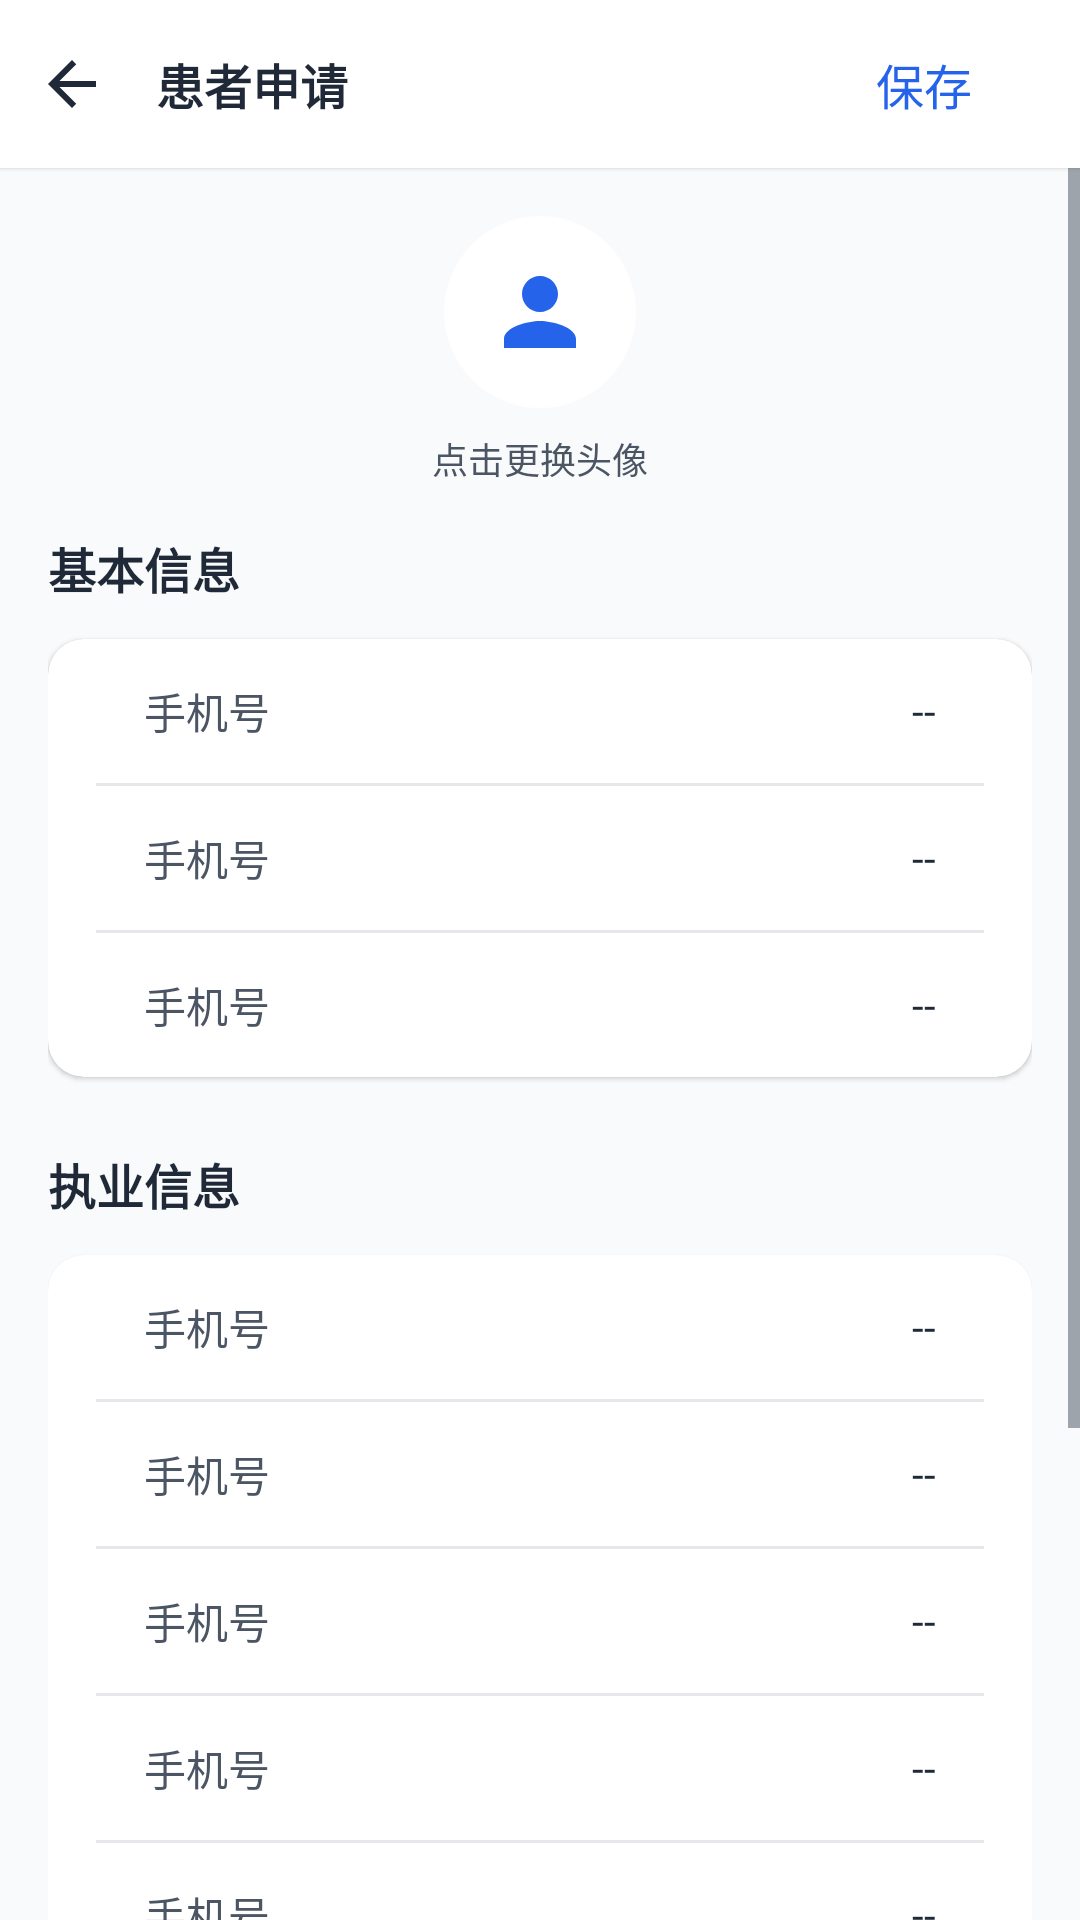

Screen size 1080x1920. Icon name, then its center in pixels as (x=x, y=y):
返回: (x=72, y=84)
